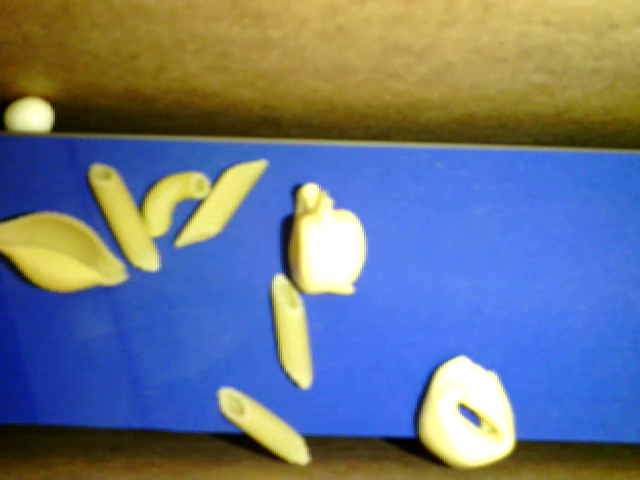elbow: (141, 172, 214, 237)
penne: (173, 158, 267, 248), (88, 161, 160, 272), (217, 384, 311, 467), (270, 273, 312, 387)
shell: (1, 209, 131, 294)
tortellini: (418, 353, 515, 470), (287, 183, 368, 295)
